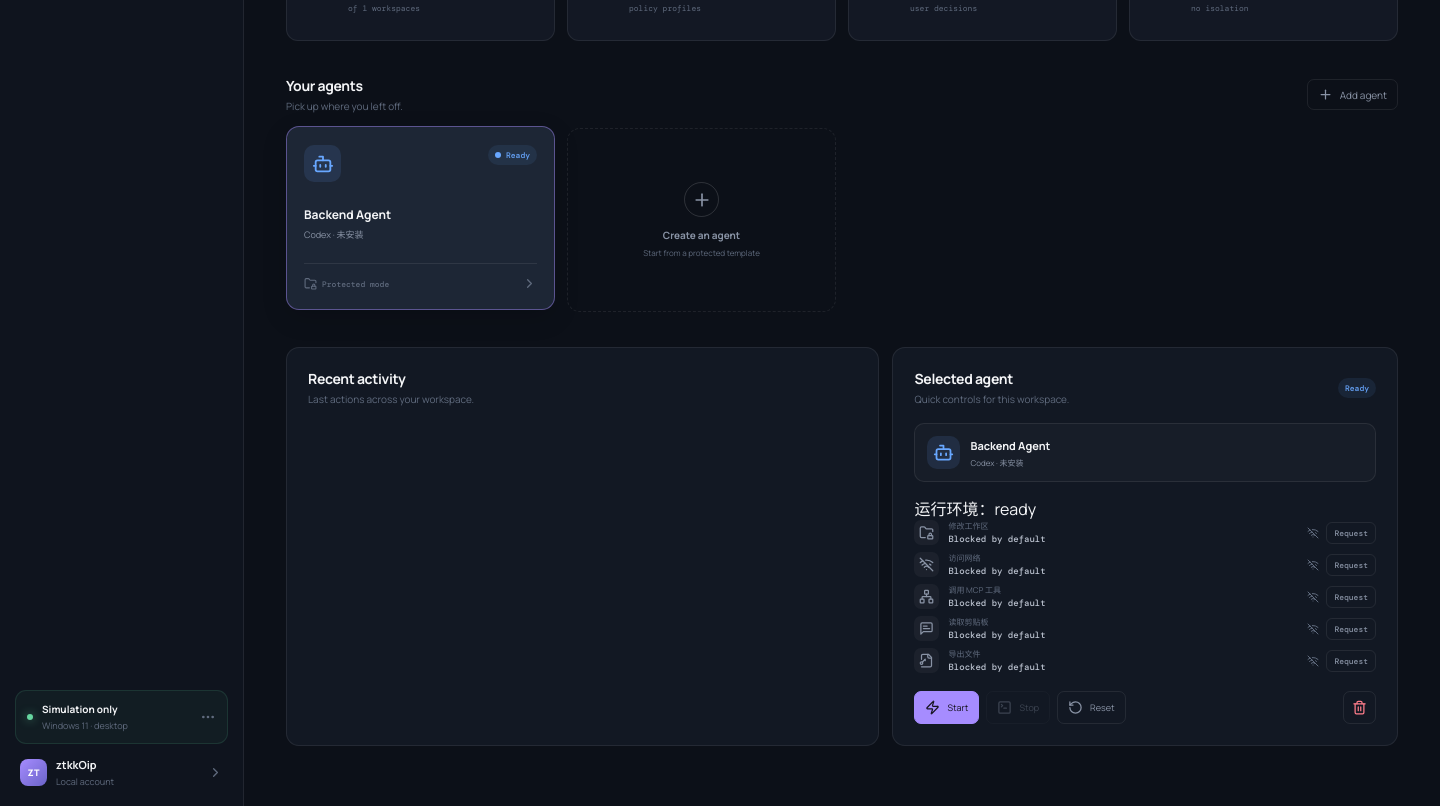
console runtime UI › never claims completion when an operation is only accepted
(page scrolled)
What coordinates should you click on to do the following:
click the button "Start"
I would click on:
 (947, 708)
Its box is [914,691,980,724].
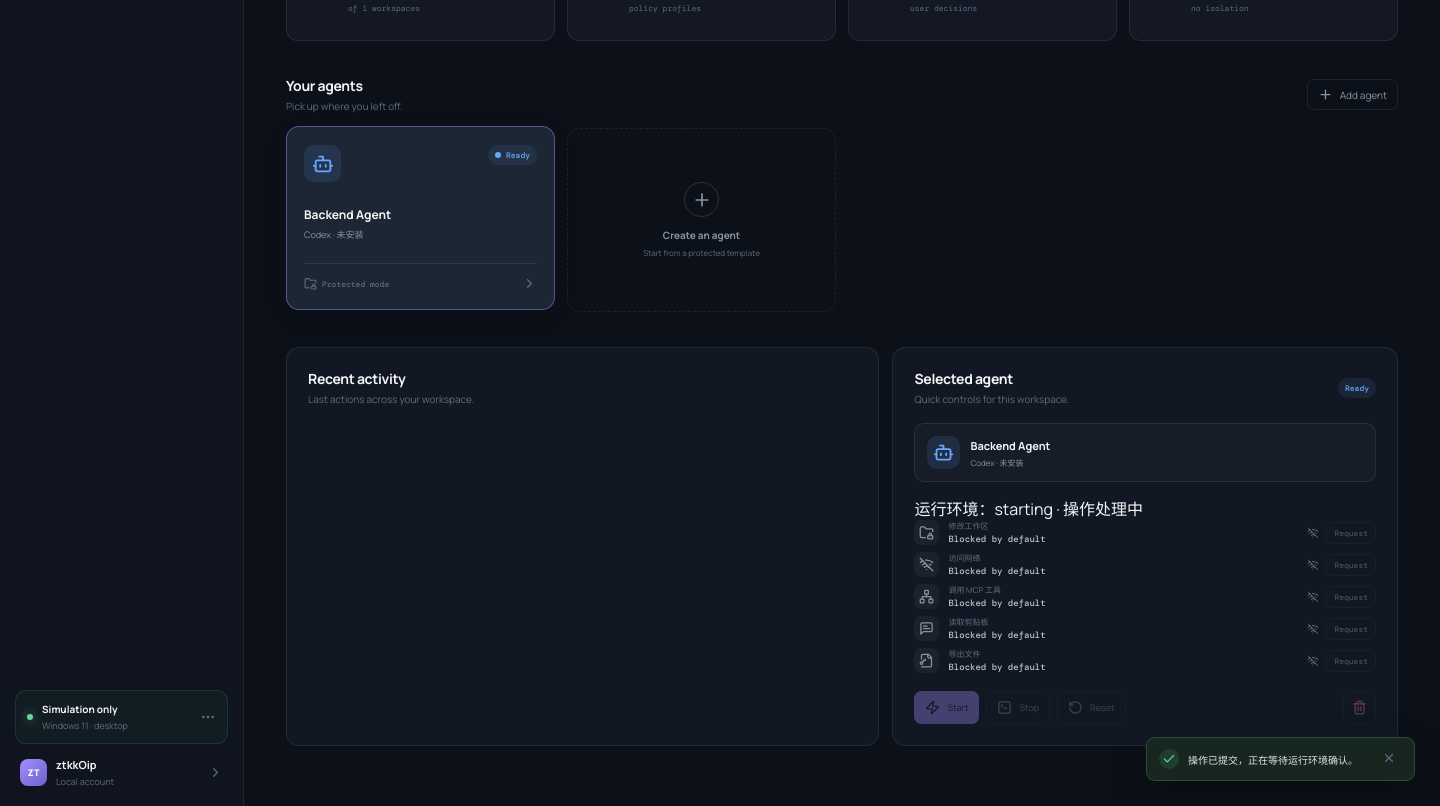
Check: the text "操作已提交，正在等待运行环境确认。" is shown, box [1146,737,1415,781]
